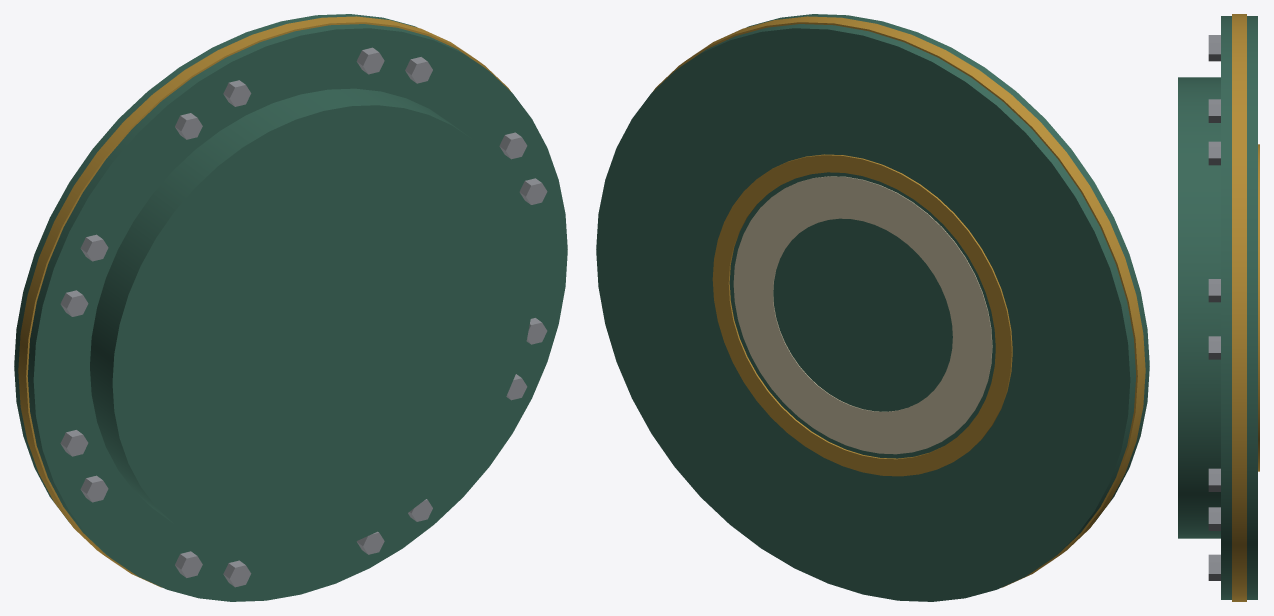
Rendered from hangar2_flange.obj.
3 views of the same model, side by side, from view 1: azimuth 30°, elevation 25°; view 2: azimuth 150°, elevation 25°; view 3: azimuth 270°, elevation 25° (orthographic). The views are drawn at different scales.
Visible parts, largest first — view 1: hangar2_flange; view 2: hangar2_flange; view 3: hangar2_flange.
Part boxes in pixels (box(x1,y1,x2,y2)): hangar2_flange: box(14, 14, 567, 601); hangar2_flange: box(596, 14, 1149, 601); hangar2_flange: box(1178, 14, 1259, 601).
Bounding box in the file's own units: 1.91 × 1.91 × 0.2655.
